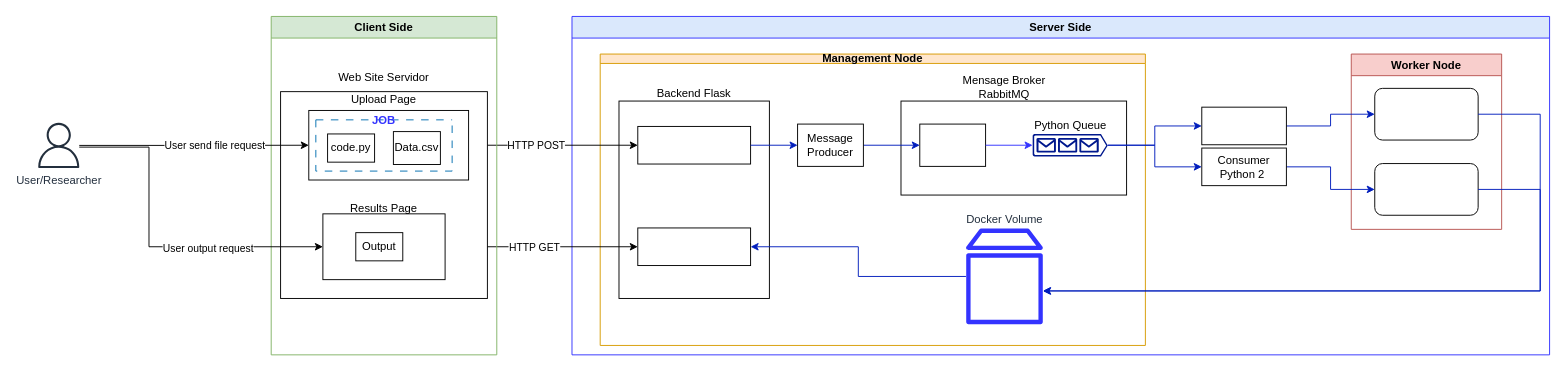
Image size: 1566x371. Some labels were removed from this diagram. The shapes that lost their labels are listed below. From the top down, each one's centre as x and y in pixels, then its label:
At pixel 1243 125: "Consumer Python 1".
At pixel 1426 113: "Python Processor 1".
At pixel 694 144: "POST User File".
At pixel 952 144: "Direct Exchange".
At pixel 1426 189: "Python Processor 2".
At pixel 694 246: "GET Output user Job".
